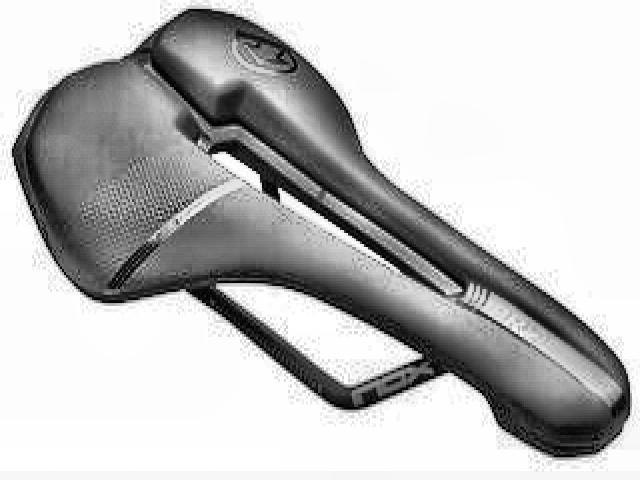saddle: (10, 7, 633, 460)
